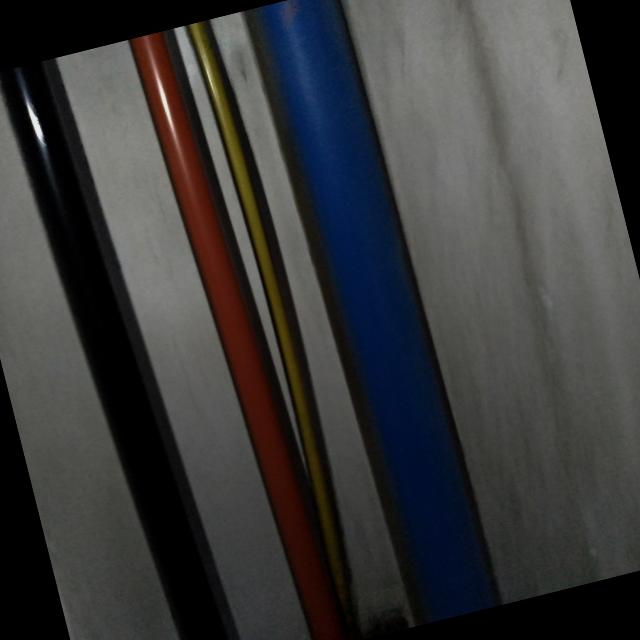gas: (243, 0, 494, 625), (126, 29, 349, 640), (0, 61, 225, 640)
